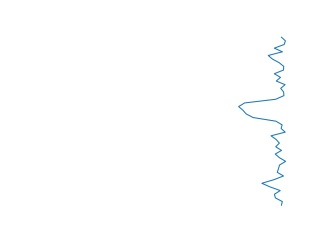interdistributaryEstuary: (236, 35, 297, 205)
